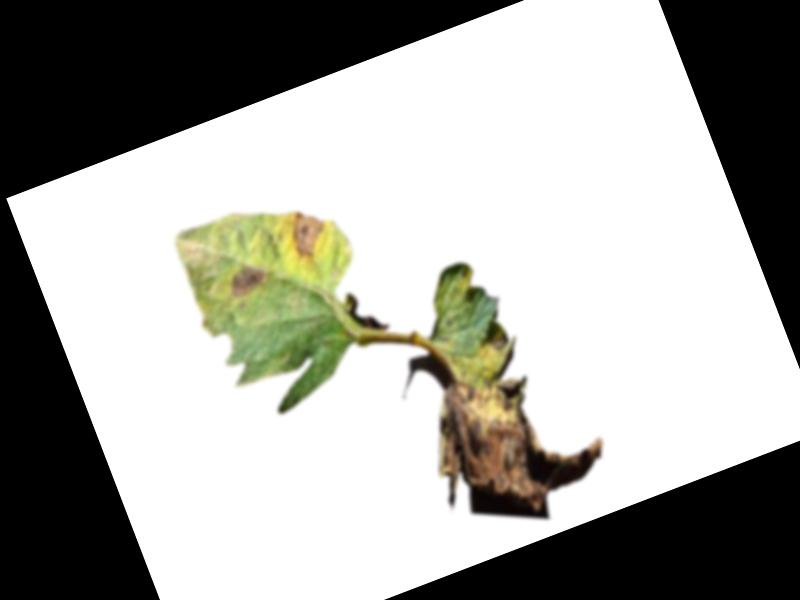Early_blight: (396, 309, 621, 540), (284, 204, 334, 259), (225, 258, 273, 299)
